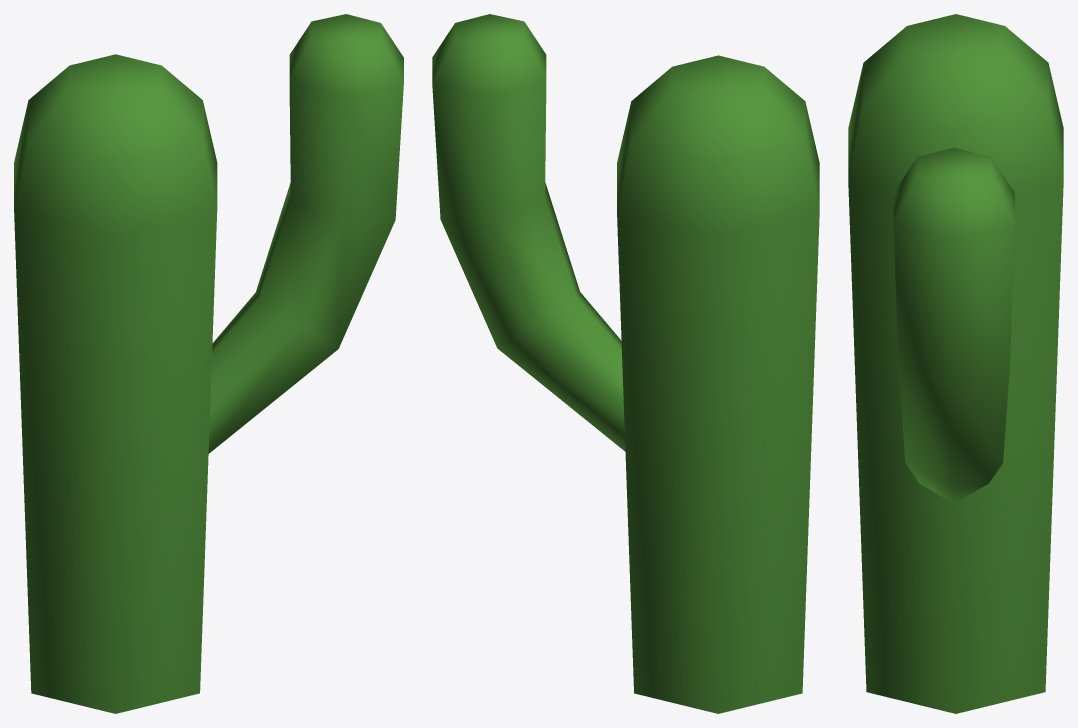
Rendered from Cactus_01.fbx.
The picture shows the model from 3 angles, left to right: view 1: azimuth 30°, elevation 25°; view 2: azimuth 150°, elevation 25°; view 3: azimuth 270°, elevation 25°; orthographic projection. The views are drawn at different scales.
Visible parts, largest first — view 1: Cactus_01; view 2: Cactus_01; view 3: Cactus_01.
Boxes of the visible parts, x1,y1,x2,y2 form: Cactus_01: (14,14,403,713); Cactus_01: (432,14,819,713); Cactus_01: (848,14,1063,713).
Size of the model in its own units: 590 by 864 by 267.
